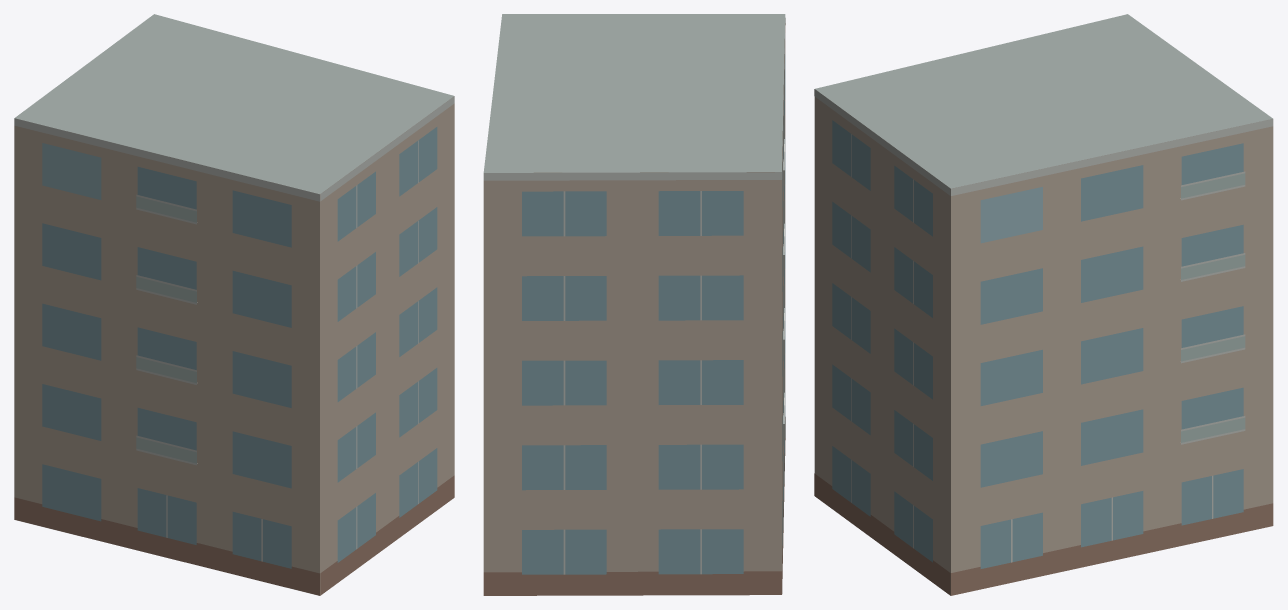
File: survey-upis-32695311.glb
3 renders of one model, left to right at view 1: azimuth 30°, elevation 25°; view 2: azimuth 150°, elevation 25°; view 3: azimuth 270°, elevation 25°, orthographic. The views are drawn at different scales.
Visible parts, largest first — view 1: survey-upis-32695311.tmp; view 2: survey-upis-32695311.tmp; view 3: survey-upis-32695311.tmp.
Part boxes in pixels (left/top/right/bottom): survey-upis-32695311.tmp: left=14, top=14, right=454, bottom=595; survey-upis-32695311.tmp: left=483, top=14, right=785, bottom=595; survey-upis-32695311.tmp: left=814, top=14, right=1273, bottom=595.
Size of the model in its own units: 12.15 by 13.2 by 13.49.
